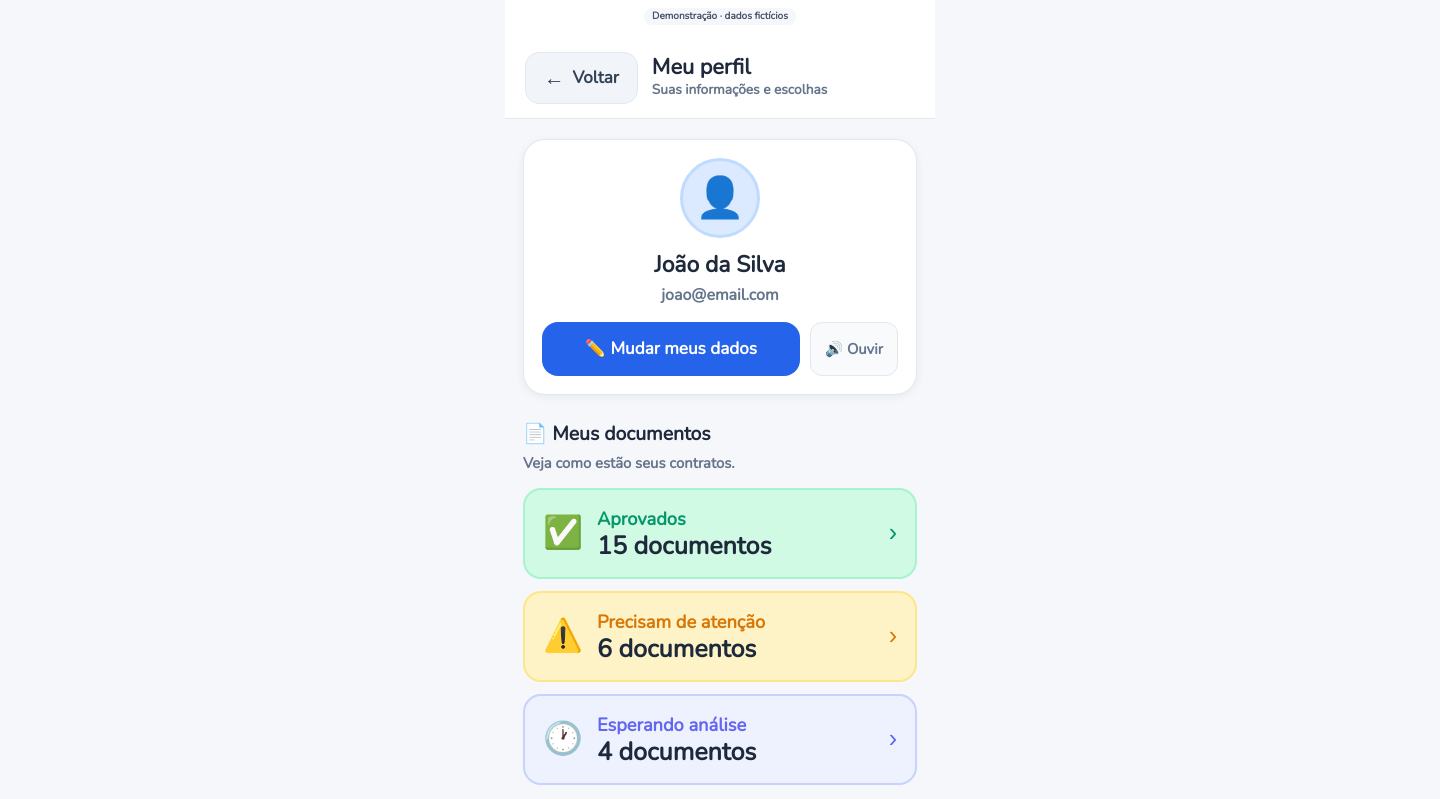
fluxos React › mantém edição e erro visível quando o serviço de perfil falha
The width and height of the screenshot is (1440, 799).
Click the button "✏️ Mudar meus dados": (671, 349) x1=542 y1=322 x2=800 y2=376
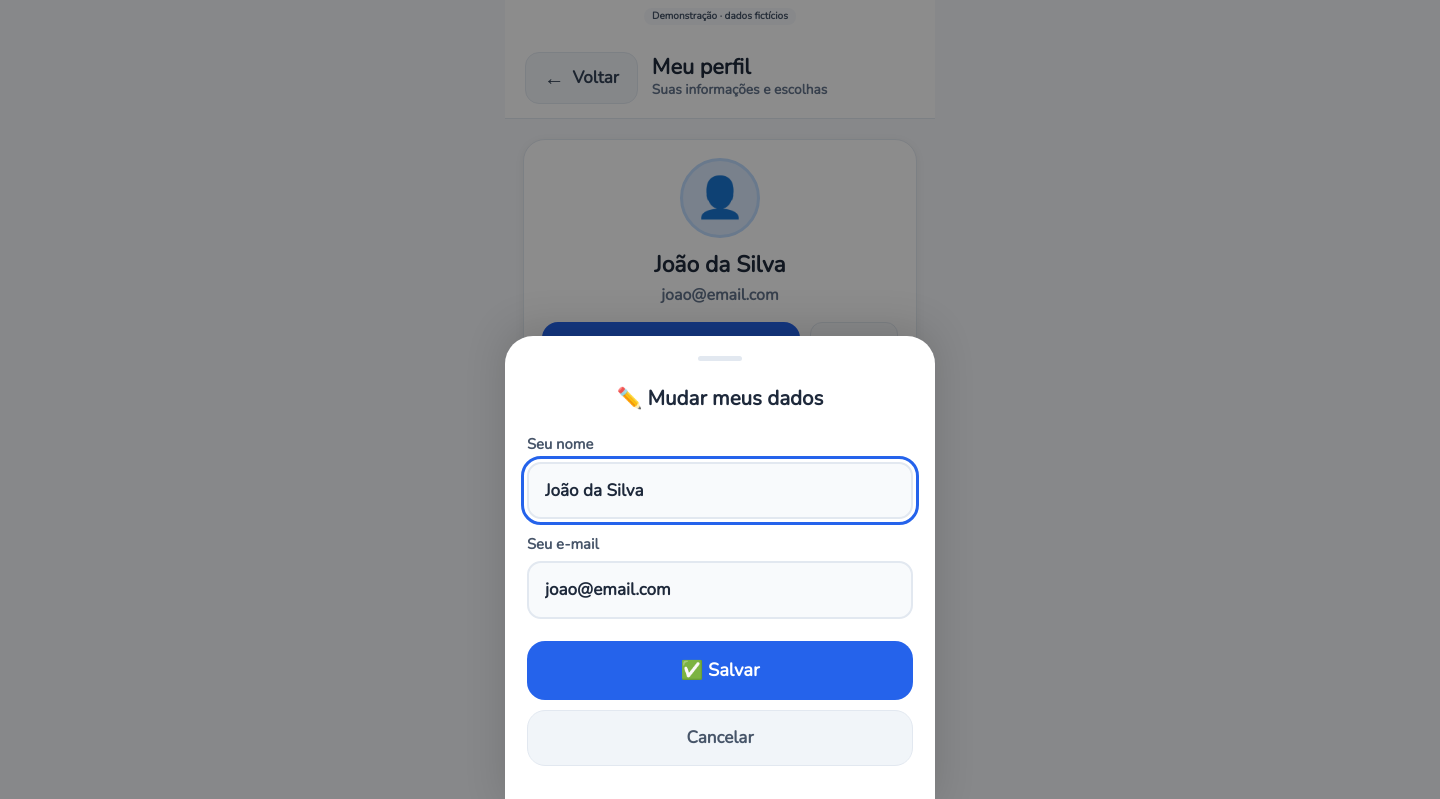
Replace the text in the field named "Seu nome" with "Nome ainda não salvo": (720, 490) x1=527 y1=462 x2=913 y2=519
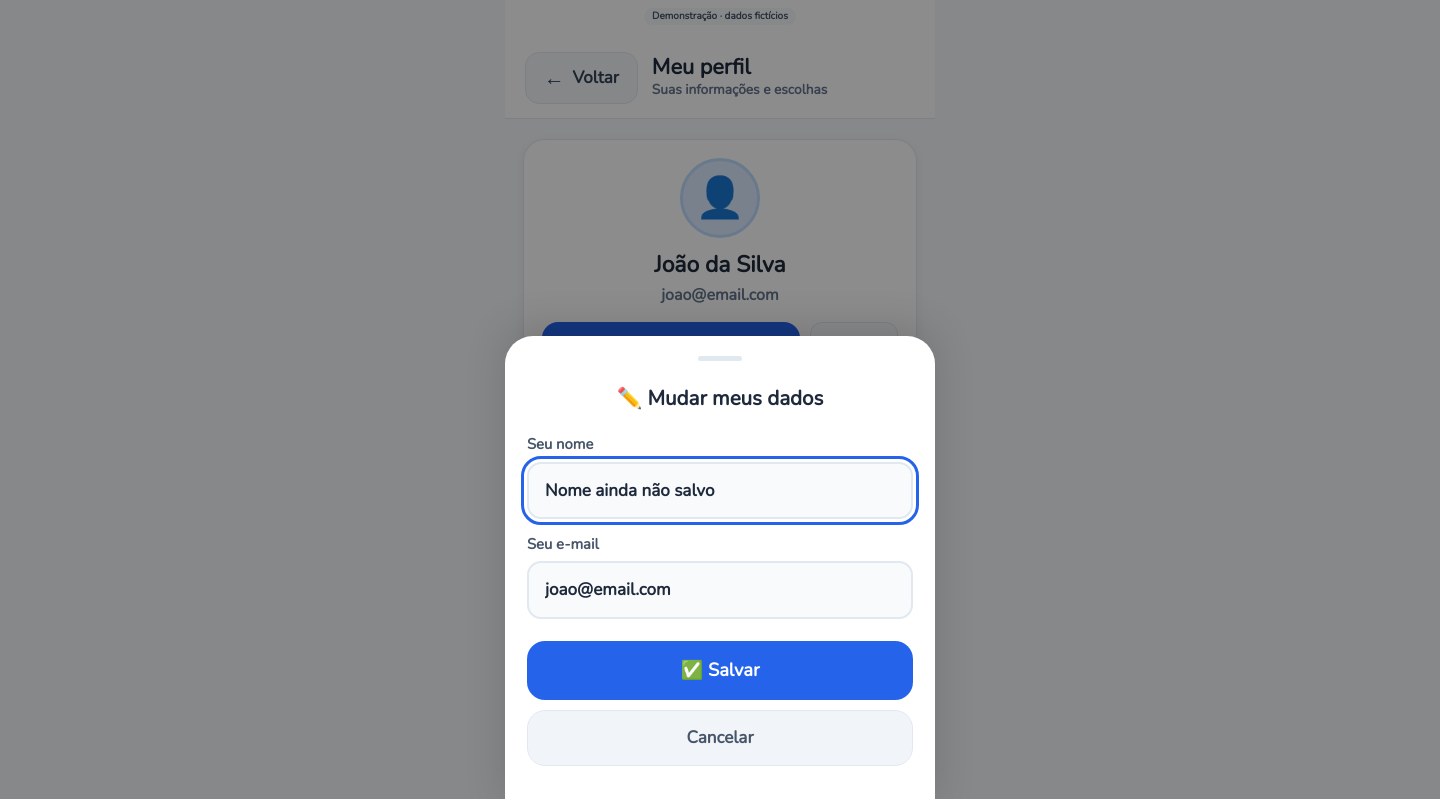
Click the button "✅ Salvar": (720, 671) x1=527 y1=641 x2=913 y2=700
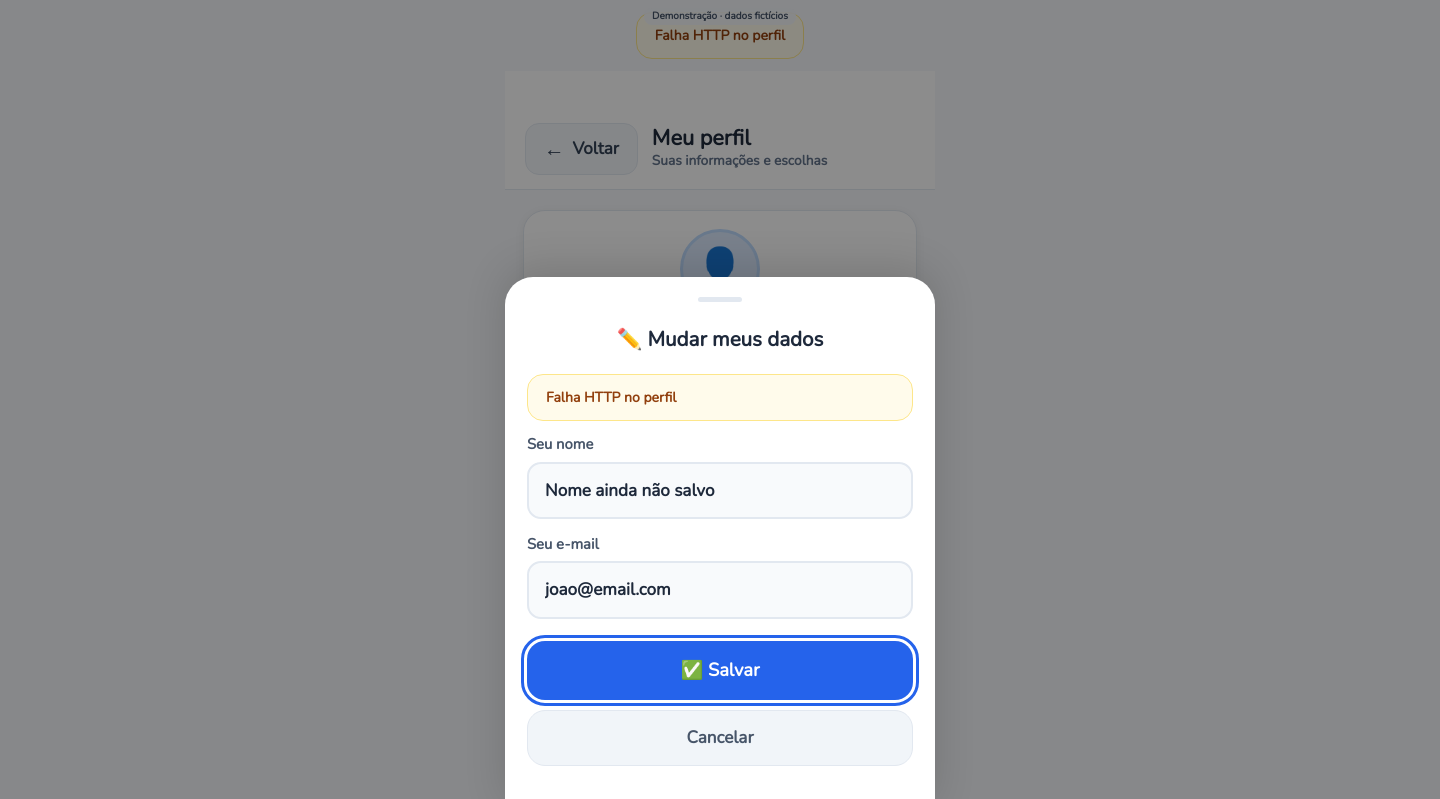
Expected: the 2nd message "Falha HTTP no perfil" is shown, x1=527 y1=374 x2=913 y2=421
